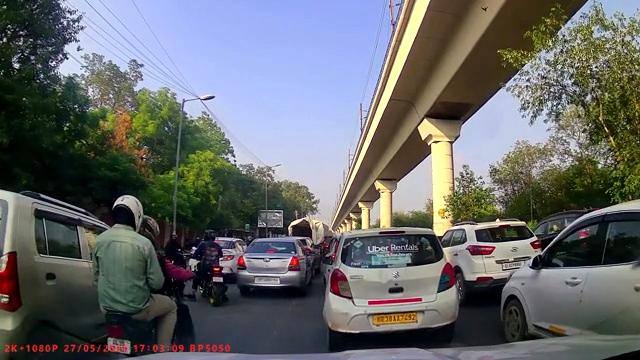motorcycle_with_helmet: (192, 228, 227, 306)
passenger_with_helmet: (91, 193, 182, 354)
